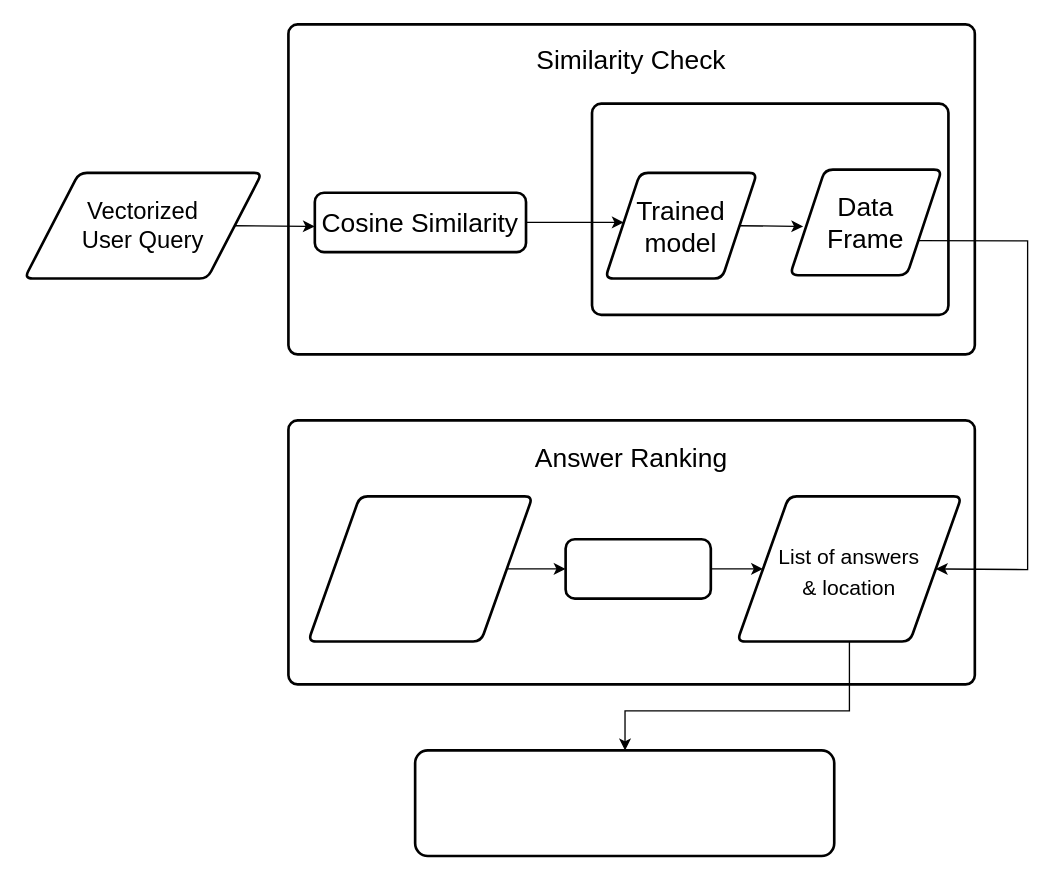
Image size: 1061x879. Some labels were removed from this diagram. Each missing label, with the box of its shape:
Answer for Given Query: (413, 748, 835, 857)
Database: (590, 102, 949, 315)
Lesk Algorithm: (564, 537, 711, 599)
User Query & Location: (306, 494, 533, 642)
